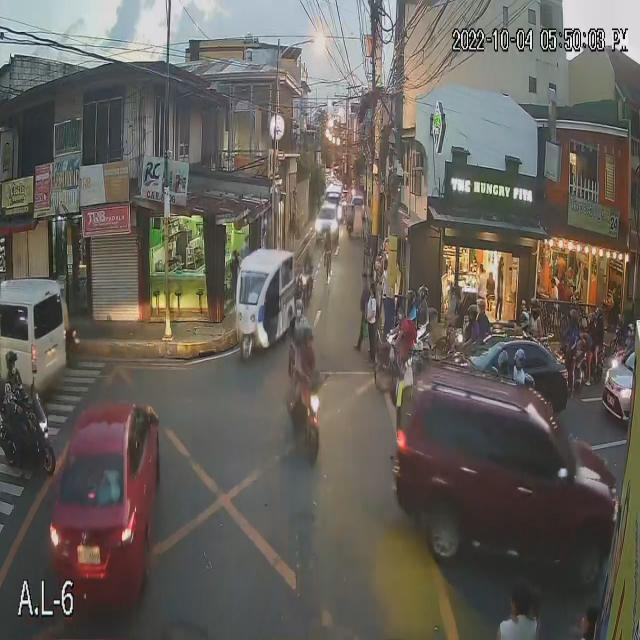helmet: (3, 346, 19, 381), (300, 322, 320, 349), (528, 293, 543, 318), (515, 307, 532, 327), (568, 301, 580, 327), (290, 321, 301, 347), (418, 281, 432, 300), (475, 297, 487, 316), (466, 301, 477, 321), (405, 291, 415, 309)
motorcycle: (0, 393, 57, 471), (282, 373, 327, 460), (555, 341, 592, 397)
rider: (2, 342, 25, 411), (298, 322, 318, 395), (414, 273, 432, 329), (402, 286, 420, 341), (292, 323, 305, 391), (569, 301, 584, 356), (466, 300, 479, 363), (477, 293, 491, 346), (528, 291, 543, 338), (518, 304, 531, 344)
